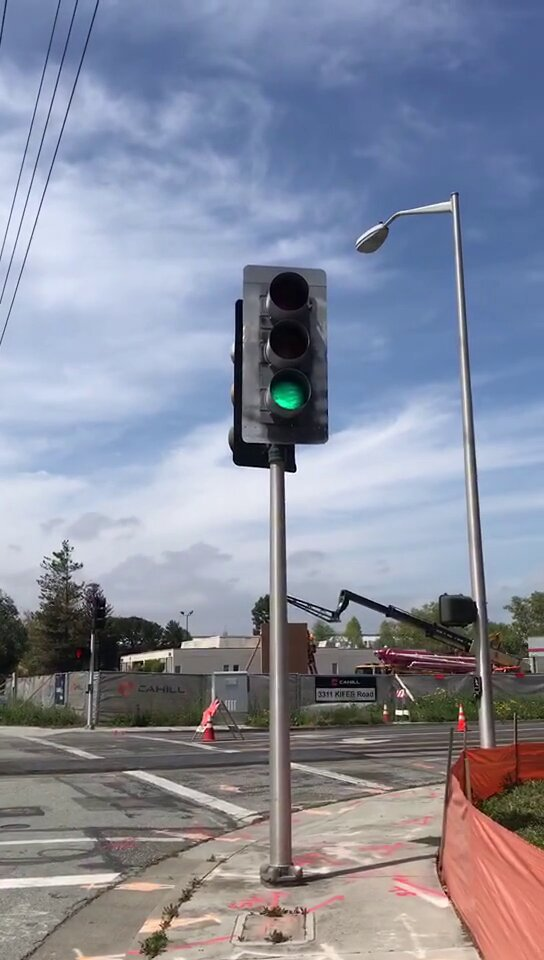green_light: (246, 268, 328, 444)
